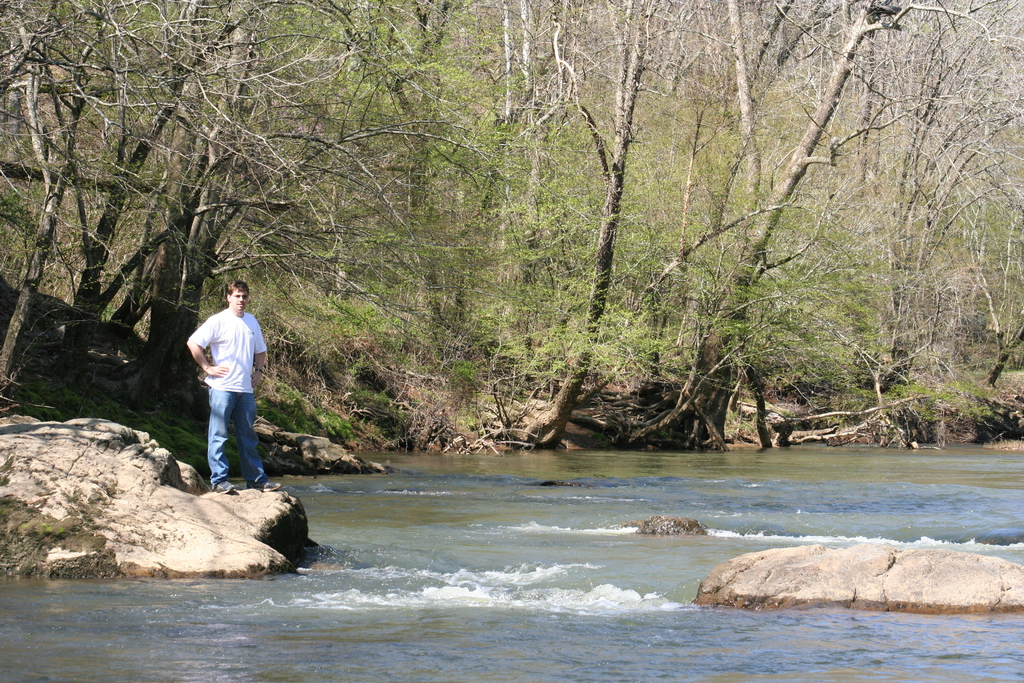Tree: (0, 0, 1023, 448)
